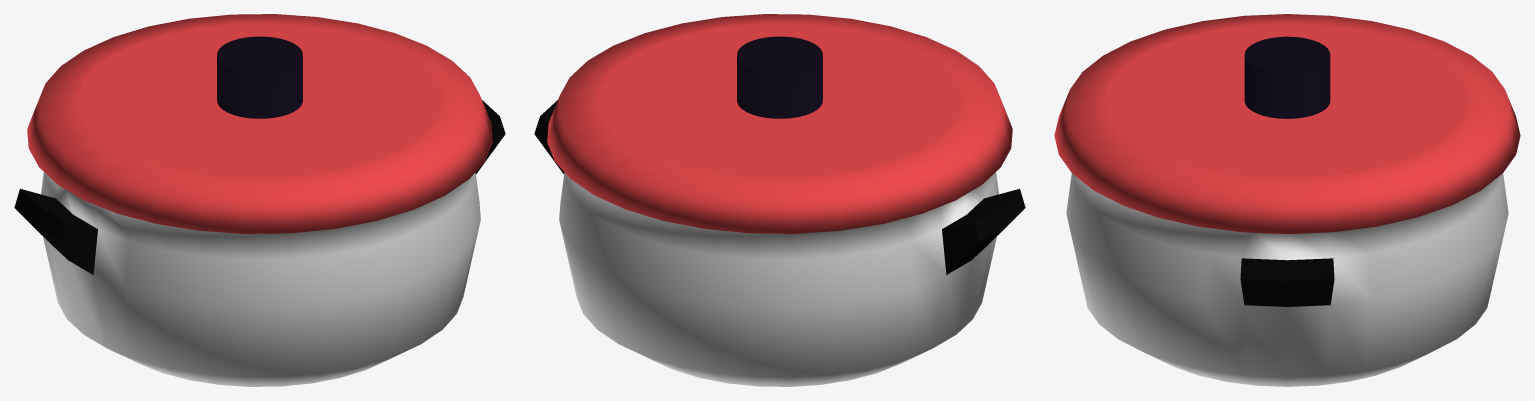
Rendered from Pot.fbx.
The picture shows the model from 3 angles, left to right: view 1: azimuth 30°, elevation 25°; view 2: azimuth 150°, elevation 25°; view 3: azimuth 270°, elevation 25°; orthographic projection.
Visible parts, largest first — view 1: Cylinder; view 2: Cylinder; view 3: Cylinder.
Part boxes in pixels (x1=…): Cylinder: x1=14, y1=14, x2=505, y2=386; Cylinder: x1=534, y1=14, x2=1025, y2=386; Cylinder: x1=1054, y1=14, x2=1520, y2=386.
Bounding box in the file's own units: 48.31 × 28.09 × 43.2.
